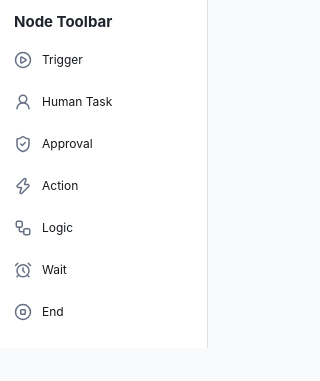
Test: workflow editor shadcn boundaries › filters the open node preset list from the search field
This screenshot has width=320, height=381.
Click the button "Trigger": (104, 60) [10,40,197,80]
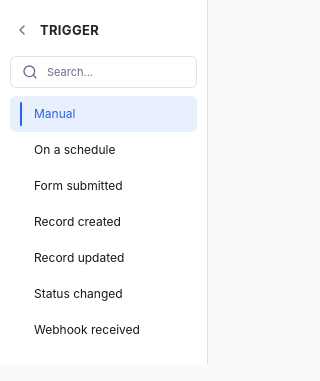
In the search field named "Search nodes": (104, 72) [10,56,197,88], type "record"
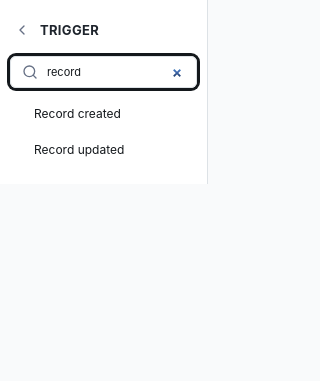
Result: the list items read "Record created", "Record updated", in this order at [10,96,197,132]; [10,132,197,168]
